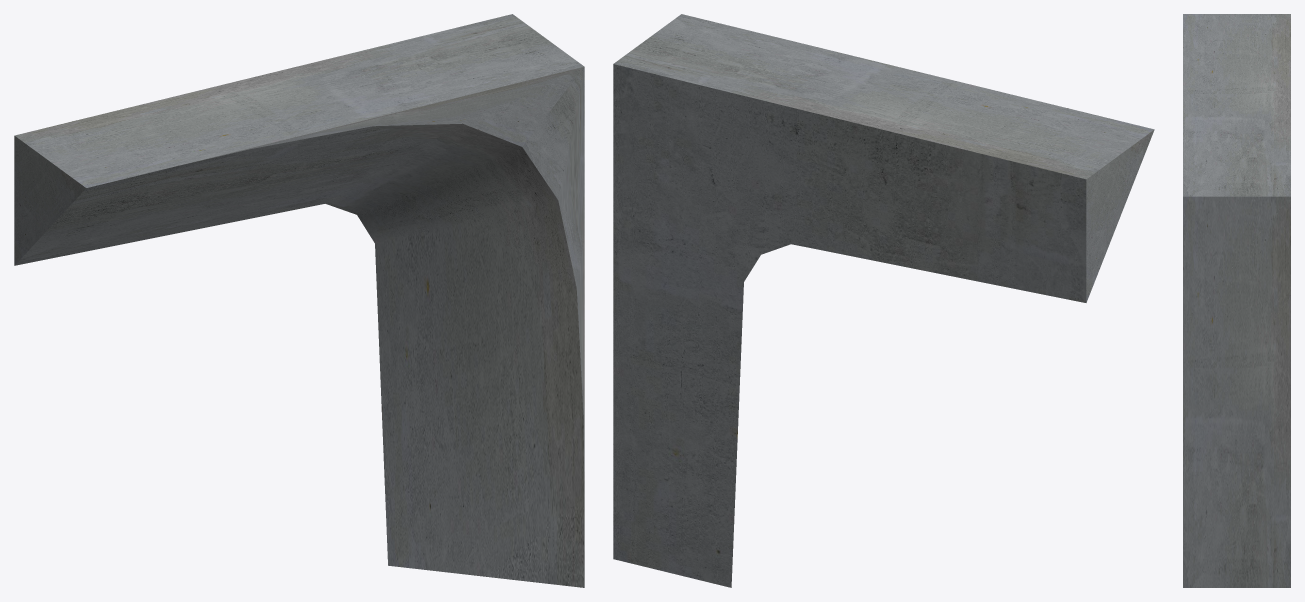
Rendered from module_C4.fbx.
3 views of the same model, side by side, from view 1: azimuth 30°, elevation 25°; view 2: azimuth 150°, elevation 25°; view 3: azimuth 270°, elevation 25° (orthographic). The views are drawn at different scales.
Visible parts, largest first — view 1: modules; view 2: modules; view 3: modules.
Part boxes in pixels (box(x1,y1,x2,y2)): modules: box(14, 14, 584, 587); modules: box(613, 14, 1154, 587); modules: box(1183, 14, 1290, 587).
Bounding box in the file's own units: 1000 × 250 × 1000.
1 material, 1 textured.
